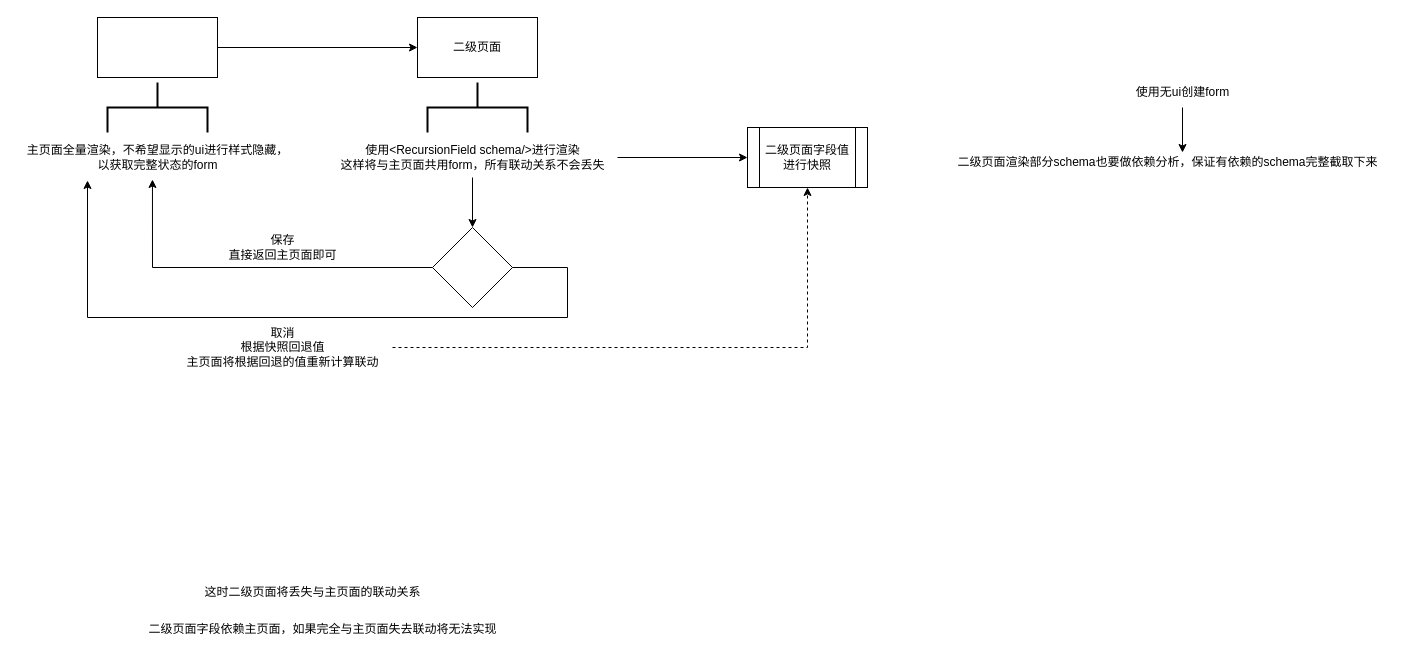
The diagram is 1404 pixels wide and 662 high, and some of its shapes have lost their labels. The box of each missing label's shape, as (x1, y1, x2, y2) in pixels:
主页面: (96, 16, 218, 78)
操作二级页面: (432, 226, 512, 308)
